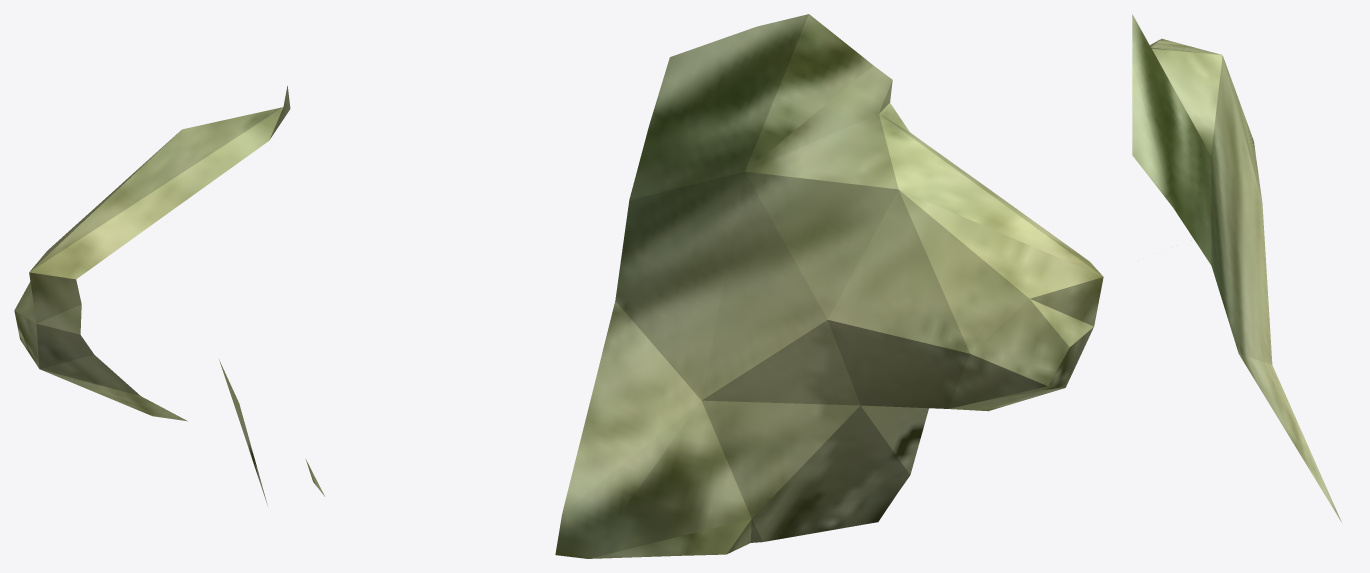
3 renders of one model, left to right at view 1: azimuth 30°, elevation 25°; view 2: azimuth 150°, elevation 25°; view 3: azimuth 270°, elevation 25°, orthographic. The views are drawn at different scales.
Bounding box in the file's own units: 1.27 × 1.33 × 0.5627.
Materials: 1 (1 with a texture image).
